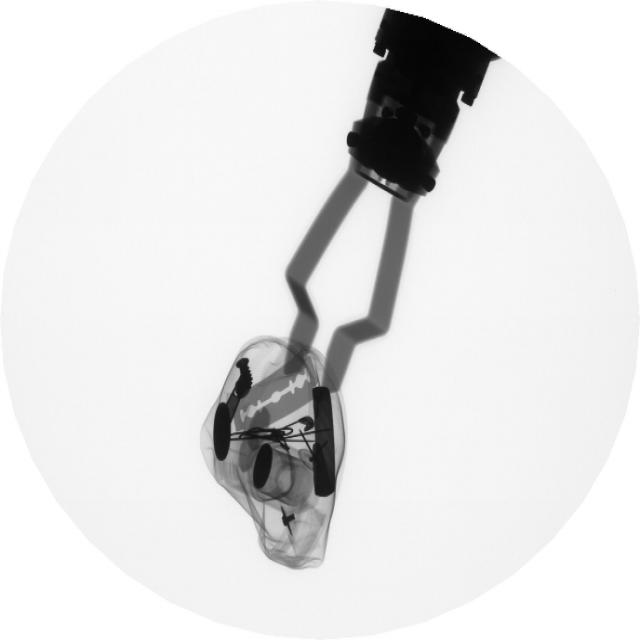BLADE: (231, 350, 318, 446)
SCREW: (227, 343, 267, 393)
